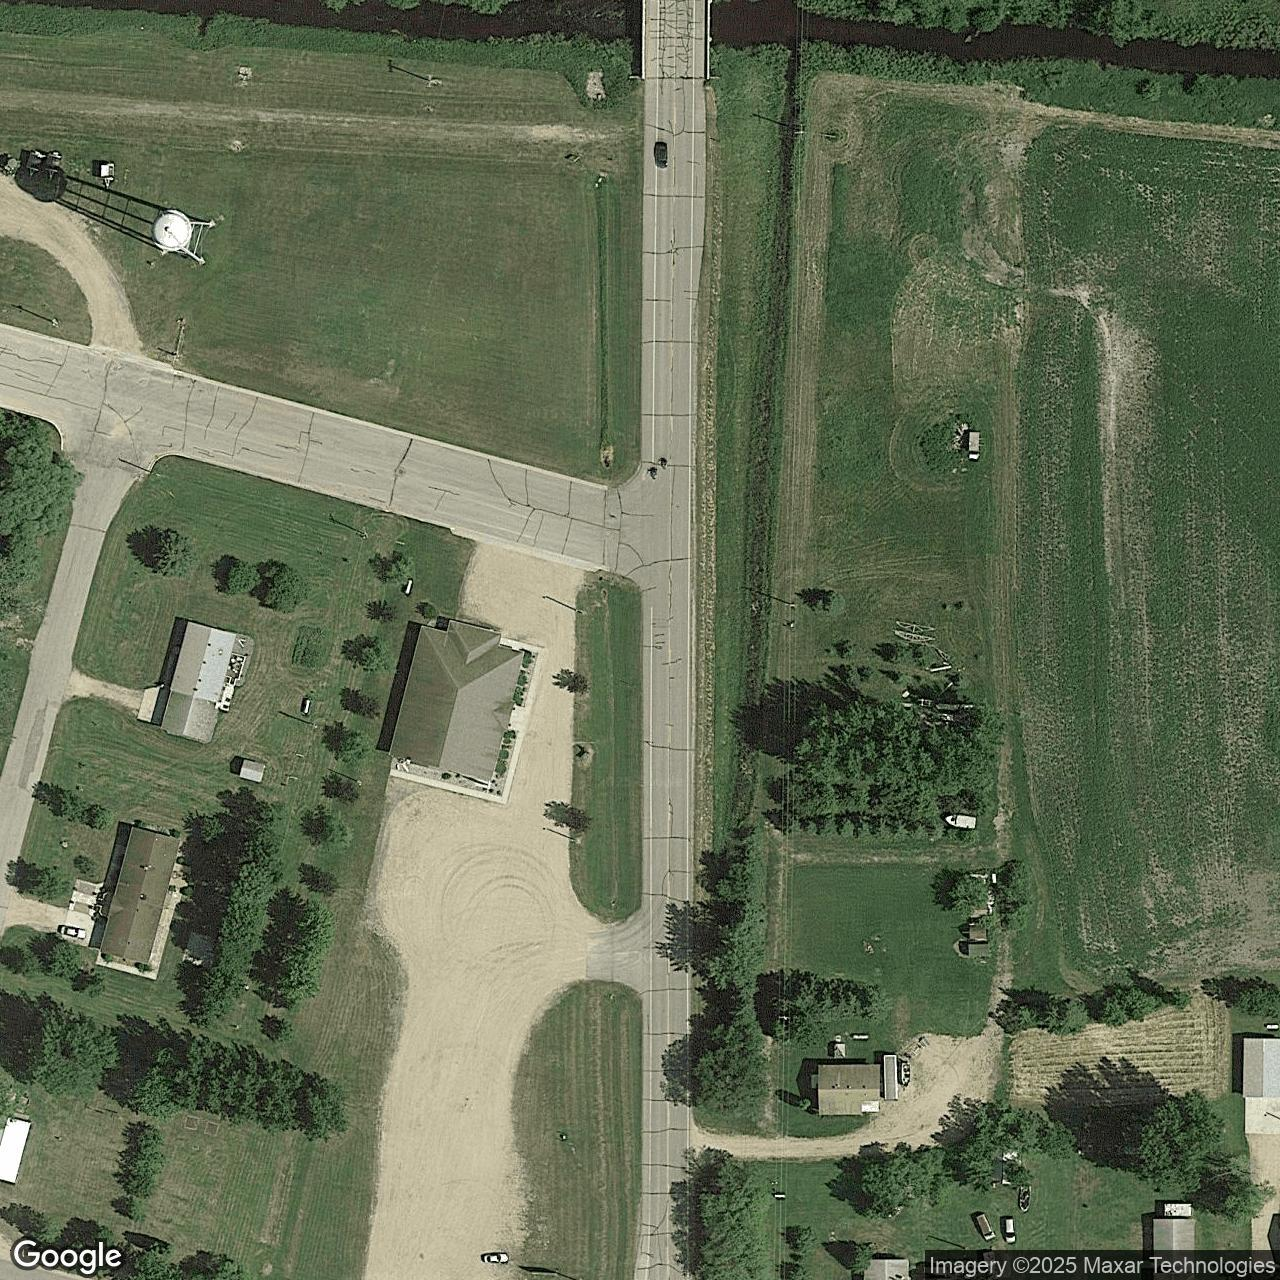Garage: (239, 758, 266, 783)
House: (388, 619, 525, 784), (100, 826, 181, 965), (159, 621, 237, 744), (818, 1064, 880, 1116), (1153, 1219, 1196, 1279), (1242, 1039, 1279, 1098)
Propane: (401, 577, 417, 598), (298, 696, 314, 717), (851, 1032, 871, 1042), (1264, 1022, 1279, 1032)
